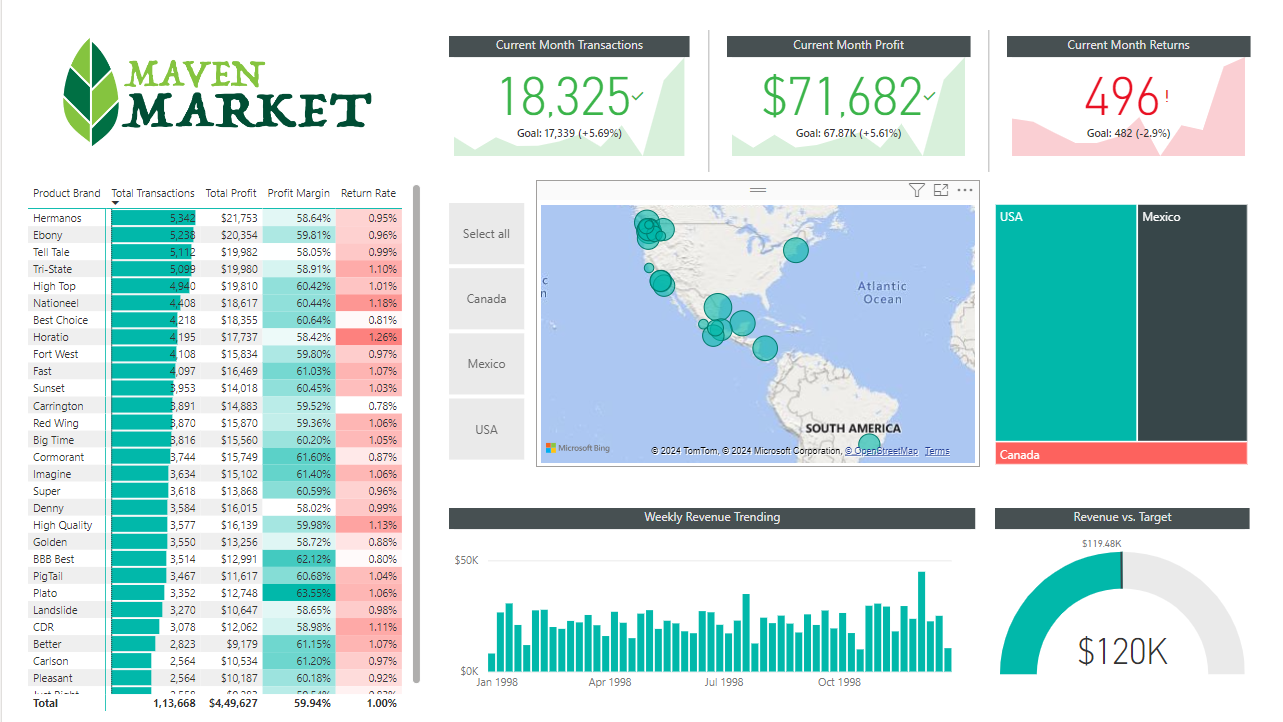

Layout of this report page (visuals, bound fields, positions):
{"tool":"powerbi","page":{"name":"Topline Performance","canvas":[1280,720],"ordinal":0},"visuals":[{"type":"image","box":[40,7.5,346.6,132.7],"z":0},{"type":"pivotTable","fields":{"Values":["Transaction_Data.Total Transactions","Transaction_Data.Total Profit","Transaction_Data.Profit Margin","Return_Data.Return Rate"],"Rows":["Products.product_brand"]},"box":[20.6,161.3,401.5,536],"z":1000},{"type":"kpi","title":"Current Month Transactions","fields":{"TrendLine":["Calendar.Start of Month"],"Goal":["Transaction_Data.Last Month Transactions"],"Indicator":["Transaction_Data.Total Transactions"]},"box":[445.9,19,240.2,124.7],"z":2000},{"type":"kpi","title":"Current Month Profit","fields":{"TrendLine":["Calendar.Start of Month"],"Goal":["Transaction_Data.Last Month Profit"],"Indicator":["Transaction_Data.Total Profit"]},"box":[723.3,19,242.5,124.7],"z":3000},{"type":"kpi","title":"Current Month Returns","fields":{"TrendLine":["Calendar.Start of Month"],"Goal":["Return_Data.Last Month Returns"],"Indicator":["Return_Data.Total Returns"]},"box":[1003,19,242.5,124.7],"z":4000},{"type":"map","fields":{"Category":["Stores.store_city"],"Size":["Transaction_Data.Total Transactions"]},"box":[532.8,182.5,442.7,266.5],"z":5000},{"type":"slicer","fields":{"Values":["Stores.store_country"]},"box":[420.5,178.9,124.7,270],"z":6000},{"type":"columnChart","title":"Weekly Revenue Trending","fields":{"Category":["Calendar.Start of Week"],"Y":["Transaction_Data.Total Revenue"]},"box":[445.9,490,525.3,192.2],"z":7000},{"type":"gauge","title":"Revenue vs. Target","fields":{"Y":["Transaction_Data.Total Revenue"],"TargetValue":["Transaction_Data.Revenue Target"]},"box":[991.1,490,254.4,171.6],"z":8000},{"type":"basicShape","box":[671.7,2.9,67.5,161.3],"z":9000},{"type":"basicShape","box":[950.3,2.9,67.5,161.3],"z":10000},{"type":"treemap","fields":{"Group":["Stores.store_country","Stores.store_state","Stores.store_city"],"Values":["Transaction_Data.Total Transactions"]},"box":[985.8,181.4,261.9,270],"z":11000}]}

Visuals, with their boxes in screenshot pixels (x1, y1, x2, y2), scaled from the page's 1280x720 canvas onto the 1283x722 screenshot:
image: [40, 8, 388, 141]
pivotTable - Transaction_Data.Total Transactions x Transaction_Data.Total Profit: [21, 162, 423, 699]
"Current Month Transactions" kpi: [447, 19, 688, 144]
"Current Month Profit" kpi: [725, 19, 968, 144]
"Current Month Returns" kpi: [1005, 19, 1248, 144]
map - Stores.store_city x Transaction_Data.Total Transactions: [534, 183, 978, 450]
slicer - Stores.store_country: [421, 179, 546, 450]
"Weekly Revenue Trending" columnChart: [447, 491, 973, 684]
"Revenue vs. Target" gauge: [993, 491, 1248, 663]
basicShape: [673, 3, 741, 165]
basicShape: [953, 3, 1020, 165]
treemap - Stores.store_country x Stores.store_state: [988, 182, 1251, 453]
